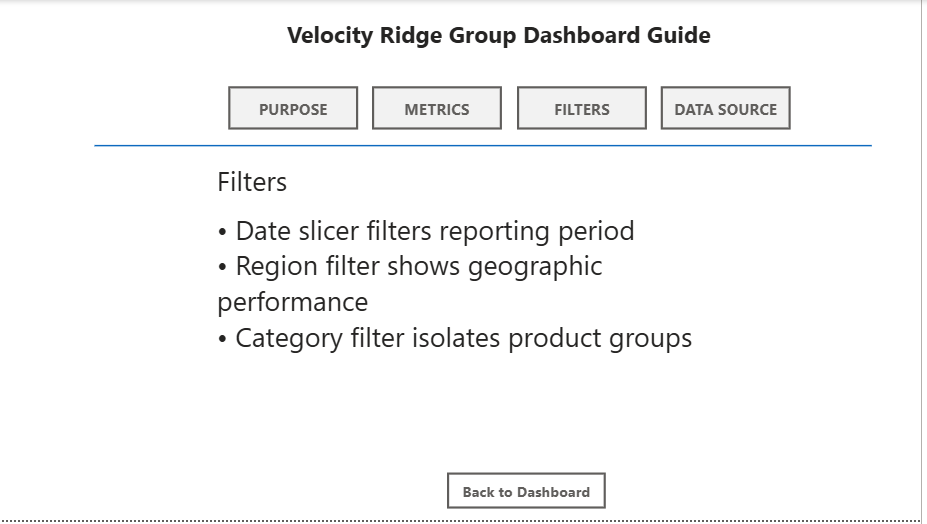

The dashboard page shown, as its layout file describes it:
{"tool":"powerbi","page":{"name":"Info Page","canvas":[1280,720],"ordinal":0},"visuals":[{"type":"textbox","title":"txt_filters","box":[299.6,219.6,701.3,304.7],"z":2000},{"type":"textbox","title":"txt_title","box":[389.6,20.8,611.3,79.7],"z":4000},{"type":"actionButton","title":"btn_purpose","box":[320,120,180,60],"z":5000},{"type":"actionButton","title":"btn_metrics","box":[520,120,180,60],"z":6000},{"type":"actionButton","title":"btn_filters","box":[720,120,180,60],"z":7000},{"type":"actionButton","title":"btn_datasource","box":[920,120,180,60],"z":8000},{"type":"shape","box":[135.1,180.1,1077.1,43.3],"z":9000},{"type":"actionButton","box":[623.4,654.6,220,50],"z":9001}]}

Visuals, with their boxes in screenshot pixels (x1, y1, x2, y2), scaled from the page's 1280x720 canvas onto the 927x524 screenshot:
"txt_filters" textbox: {"x1": 217, "y1": 160, "x2": 725, "y2": 382}
"txt_title" textbox: {"x1": 282, "y1": 15, "x2": 725, "y2": 73}
"btn_purpose" actionButton: {"x1": 232, "y1": 87, "x2": 362, "y2": 131}
"btn_metrics" actionButton: {"x1": 377, "y1": 87, "x2": 507, "y2": 131}
"btn_filters" actionButton: {"x1": 521, "y1": 87, "x2": 652, "y2": 131}
"btn_datasource" actionButton: {"x1": 666, "y1": 87, "x2": 797, "y2": 131}
shape: {"x1": 98, "y1": 131, "x2": 878, "y2": 163}
actionButton: {"x1": 451, "y1": 476, "x2": 611, "y2": 513}
